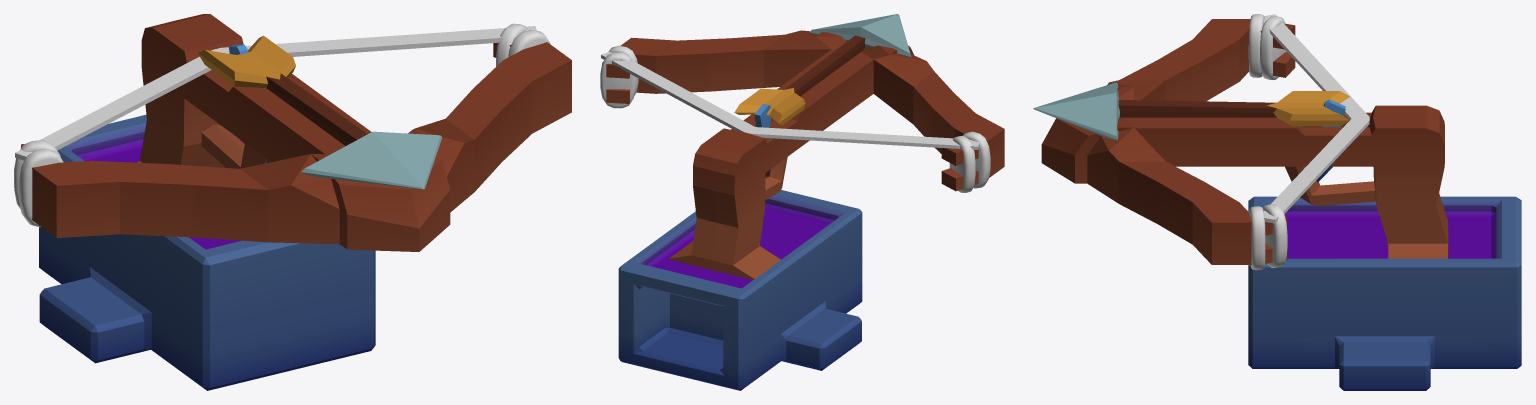
File: АВТОМАТ 2.fbx
3 renders of one model, left to right at view 1: azimuth 30°, elevation 25°; view 2: azimuth 150°, elevation 25°; view 3: azimuth 270°, elevation 25°, orthographic. The views are drawn at different scales.
Parts seen in each view (by area): view 1: Cube.010, Cube.015, Cube.014, Cube.013, Cube.012; view 2: Cube.015, Cube.010, Cube.014, Cube.013, Cube.012; view 3: Cube.010, Cube.015, Cube.014, Cube.013, Cube.012.
Part boxes in pixels (x1,y1,x2,y2): Cube.010: (21,14,571,251); Cube.015: (39,115,375,390); Cube.014: (198,35,442,189); Cube.013: (15,26,536,160); Cube.012: (14,23,550,227); Cube.015: (618,190,862,390); Cube.010: (606,30,1004,279); Cube.014: (734,14,911,125); Cube.013: (601,52,979,149); Cube.012: (600,45,990,192); Cube.010: (1041,19,1448,264); Cube.015: (1248,196,1521,390); Cube.014: (1033,82,1349,140); Cube.013: (1263,14,1369,223); Cube.012: (1248,14,1287,270).
Size of the model in its own units: 1277 by 694 by 1260.
